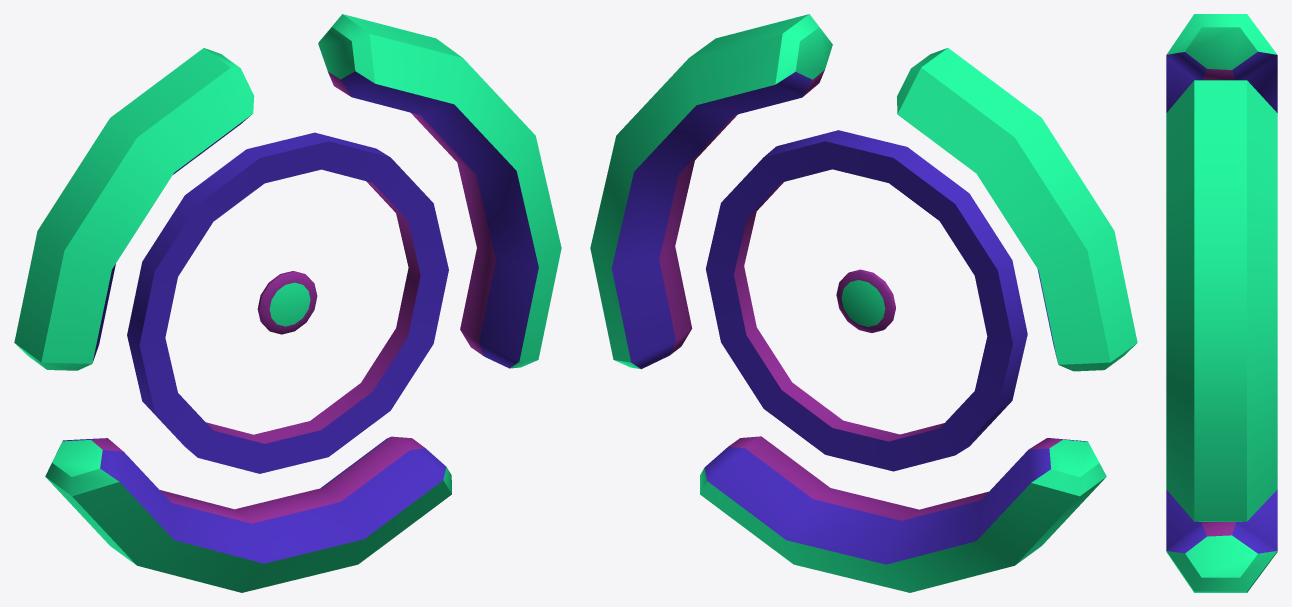
The model's file is OnPortal.fbx.
The picture shows the model from 3 angles, left to right: view 1: azimuth 30°, elevation 25°; view 2: azimuth 150°, elevation 25°; view 3: azimuth 270°, elevation 25°; orthographic projection.
Parts seen in each view (by area): view 1: Cylinder001; view 2: Cylinder001; view 3: Cylinder001.
Boxes of the visible parts, x1=… form: Cylinder001: x1=14, y1=14, x2=561, y2=592; Cylinder001: x1=590, y1=14, x2=1137, y2=592; Cylinder001: x1=1166, y1=14, x2=1277, y2=592.
Size of the model in its own units: 0.000166 by 0.000161 by 3.13e-05.
